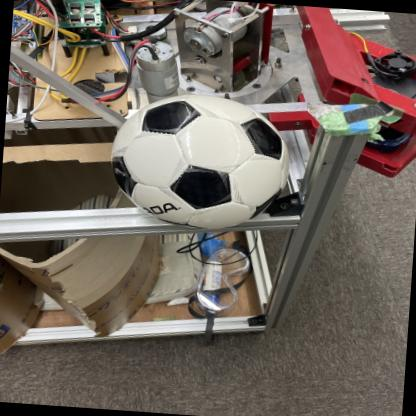ball: (107, 90, 293, 233)
